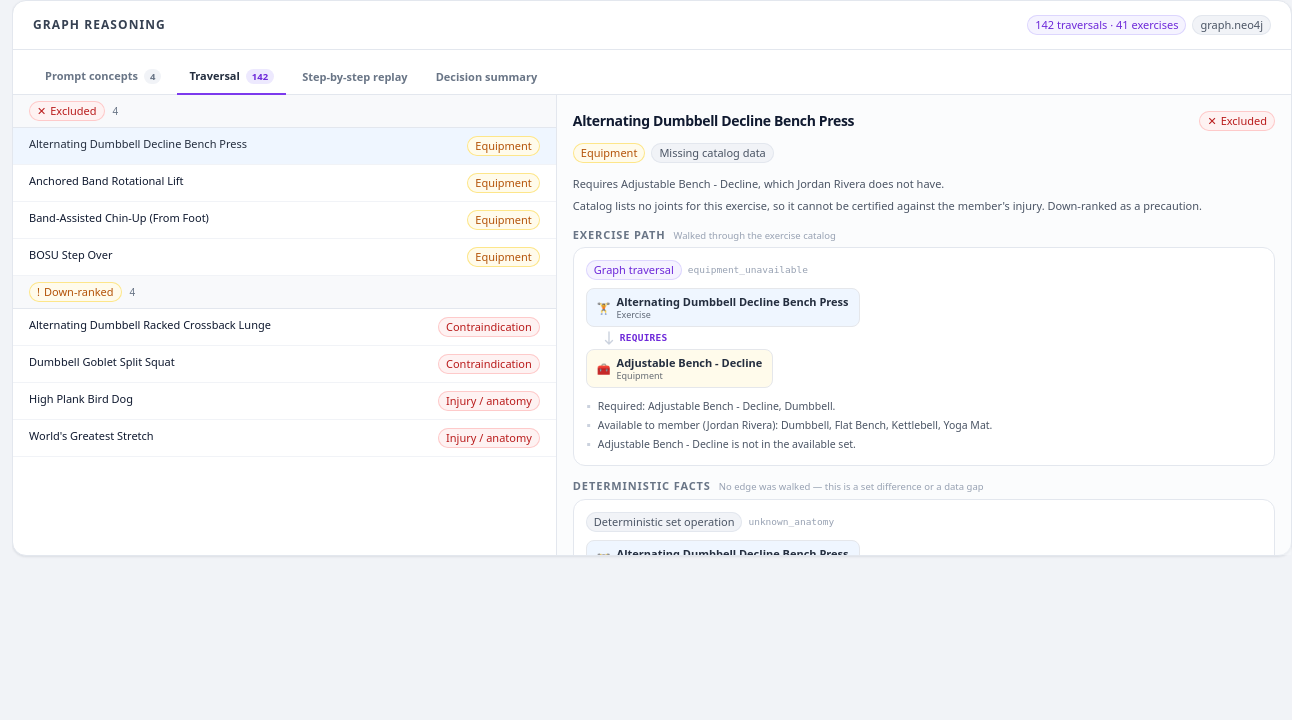
Traversal tab selection › updates the path view when a different decision is selected
The image size is (1292, 720).
Click the button "Alternating Dumbbell Decline Bench Press Equipment" at {"x": 138, "y": 144}, box [13,128,556,165]
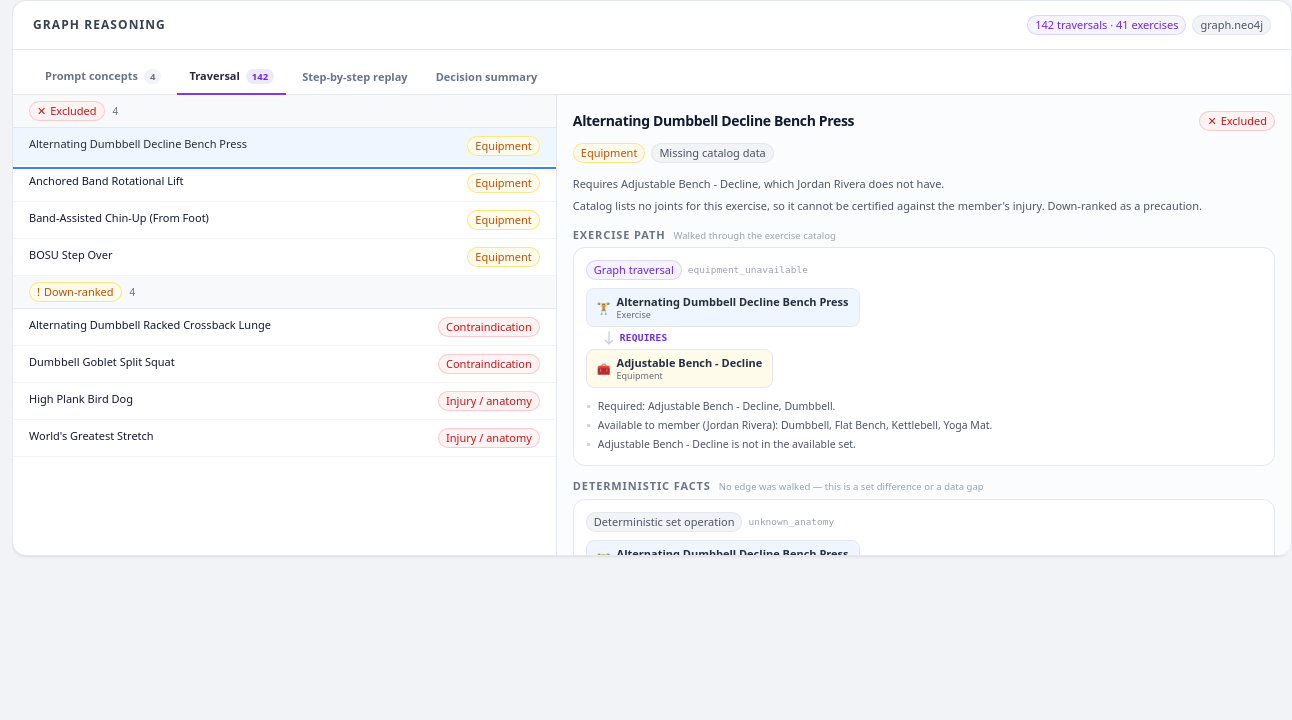
Expected: the heading "Alternating Dumbbell Decline Bench Press" is shown, [573,111,854,131]
Click the button "Band-Assisted Chin-Up (From Foot) Equipment" at {"x": 119, "y": 218}, box [13,202,556,239]
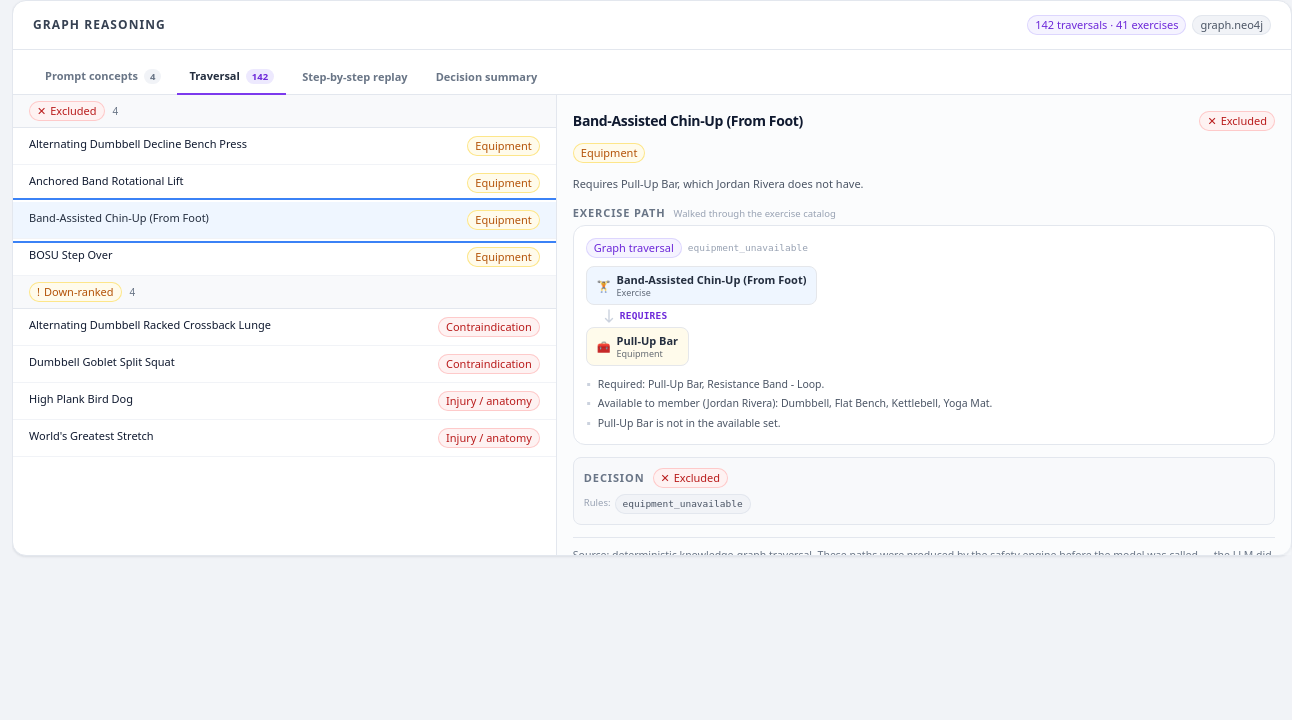
Result: the heading "Band-Assisted Chin-Up (From Foot)" is shown at [573,111,803,131]
